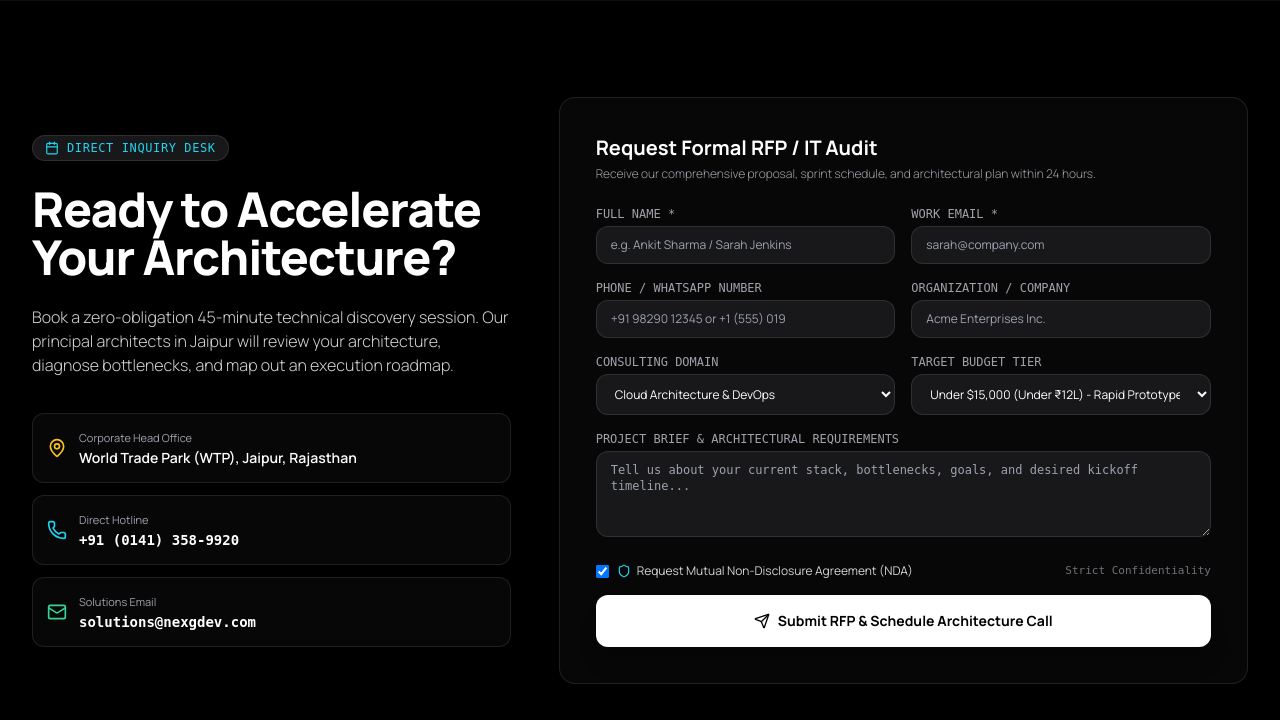
ConsultationForm Component › validates invalid email format and displays error message
The width and height of the screenshot is (1280, 720).
Type "Vikram Singh" into the field with placeholder "e.g. Ankit Sharma / Sarah Jenkins" at x=746, y=245, box [596, 226, 895, 264]
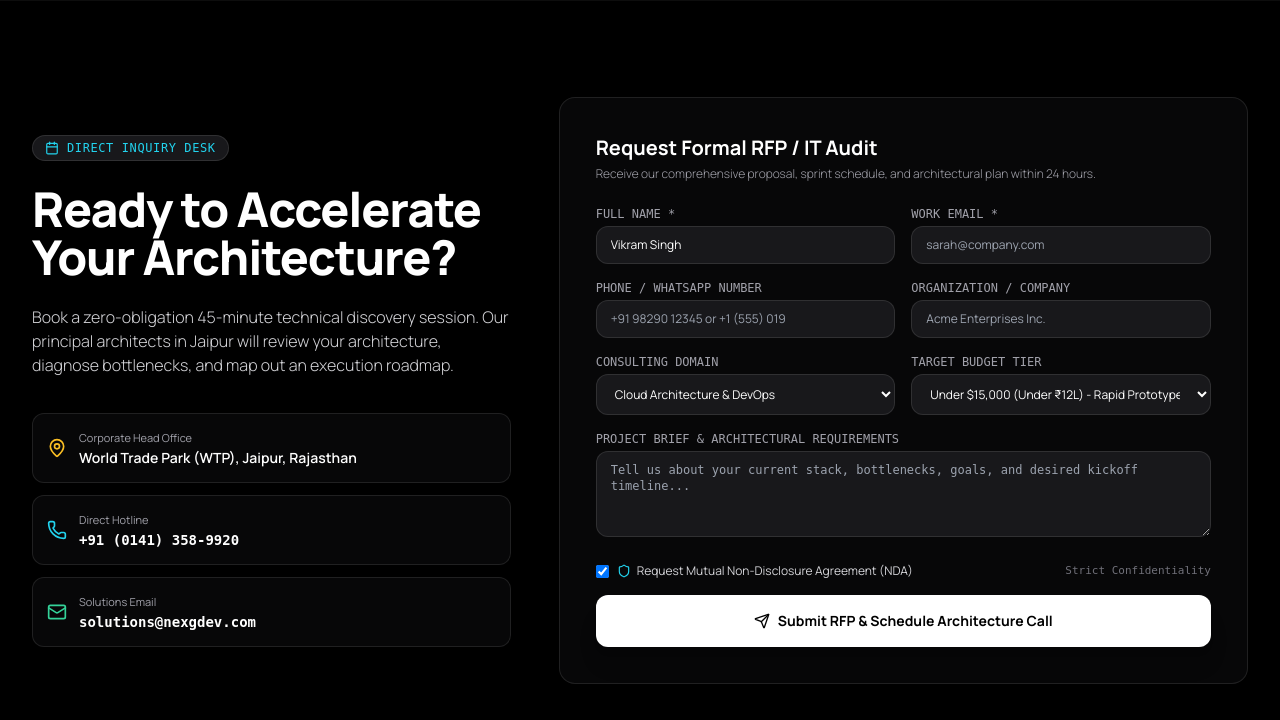
Type "not-an-email" into the field with placeholder "sarah@company.com" at x=1061, y=245, box [911, 226, 1211, 264]
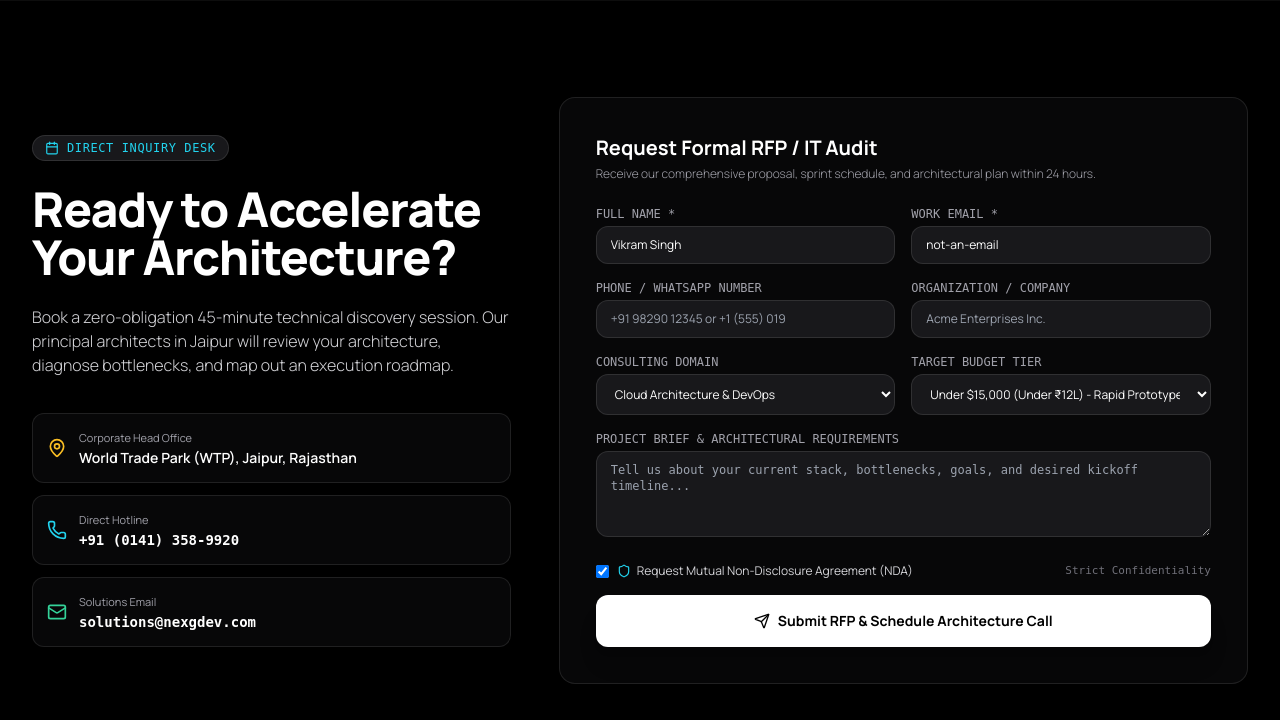
Submit the form, box [596, 206, 1211, 647]
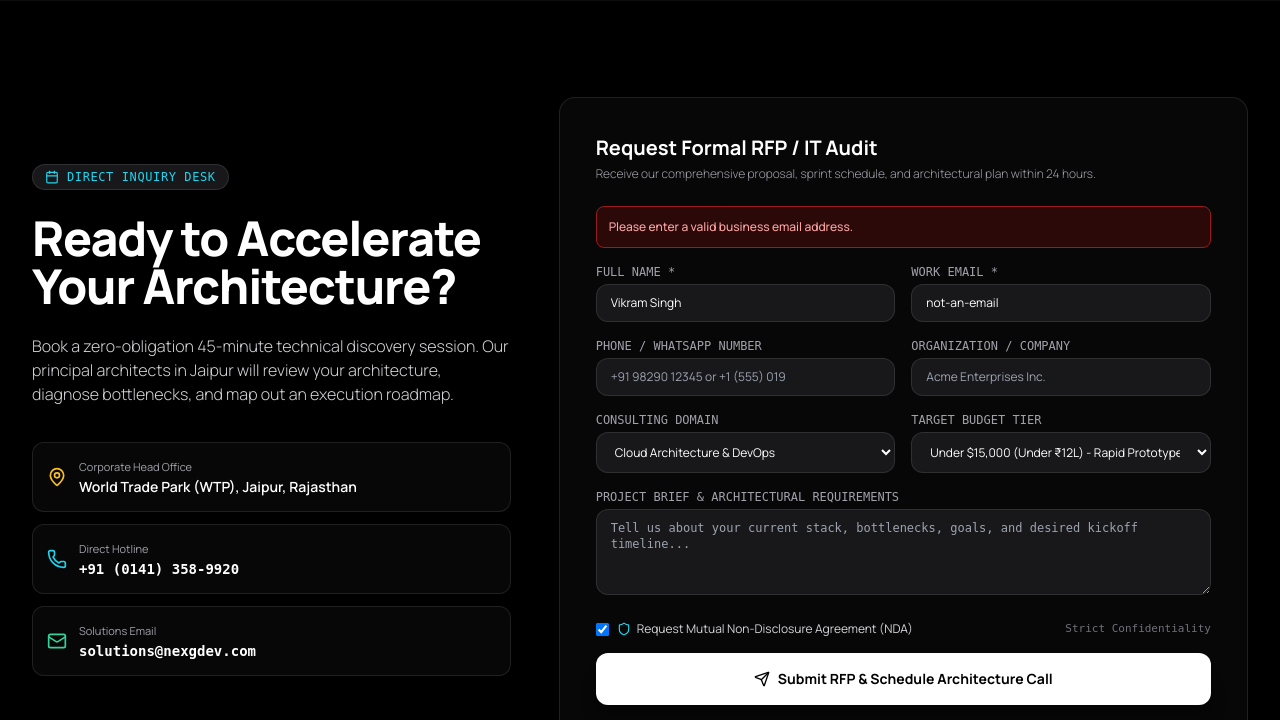
Now the text "Please enter a valid business email address." is shown, box [596, 206, 1211, 248]
